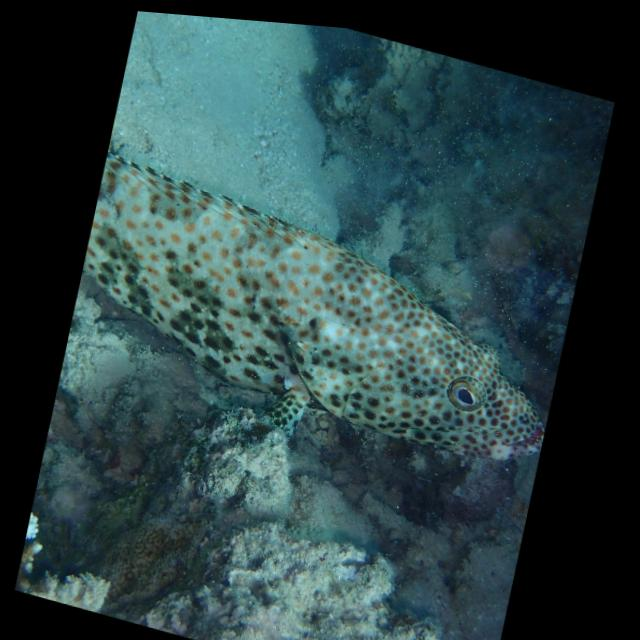Groupers: (58, 147, 579, 515)
